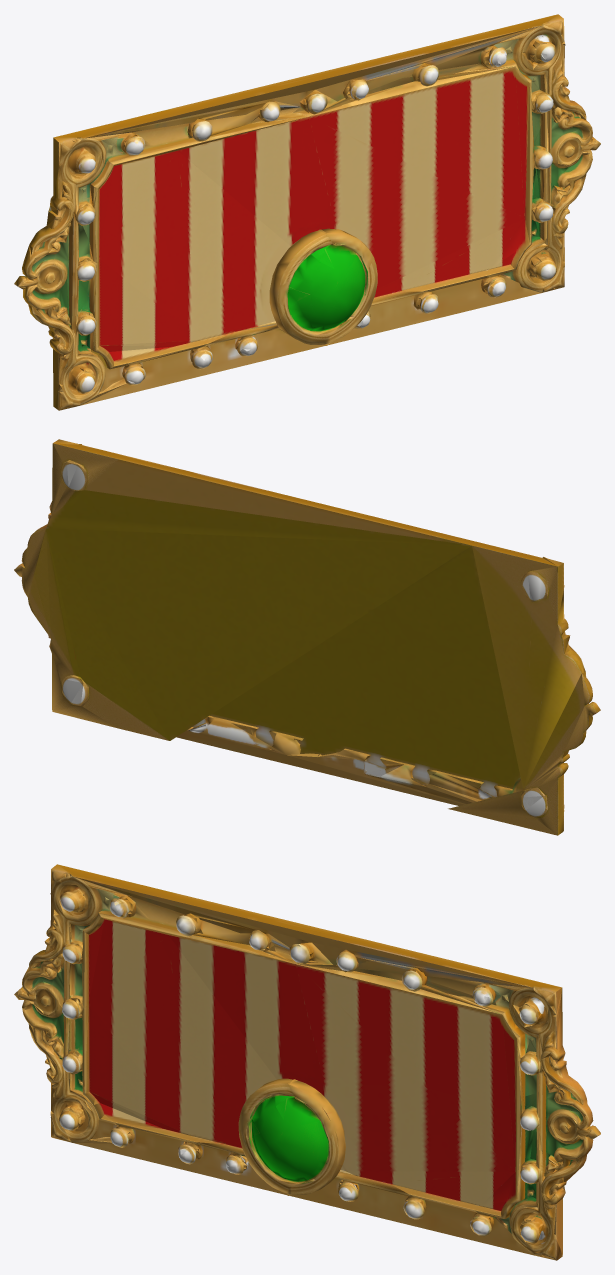
The model's file is BoutonSkip.fbx.
3 views of the same model, one above another, from view 1: azimuth 30°, elevation 25°; view 2: azimuth 150°, elevation 25°; view 3: azimuth 330°, elevation 25° (orthographic).
Visible parts, largest first — view 1: Mesh_0; view 2: Mesh_0; view 3: Mesh_0.
Boxes of the visible parts, bbox=[...] form: Mesh_0: bbox=[14, 14, 600, 410]; Mesh_0: bbox=[14, 439, 600, 835]; Mesh_0: bbox=[14, 864, 600, 1260].
Bounding box in the file's own units: 190 × 83.98 × 17.89.
Materials: 1 (1 with a texture image).
